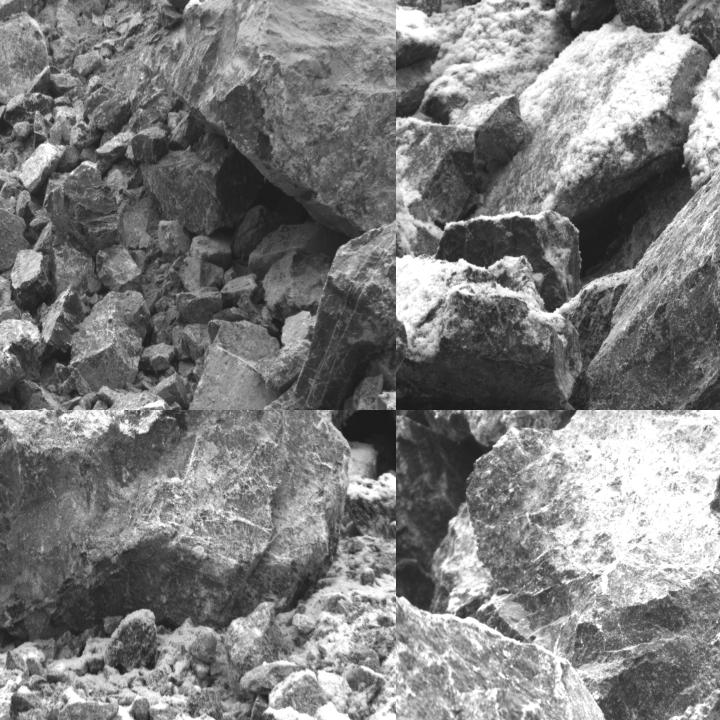stone: (429, 410, 719, 719), (0, 410, 352, 652), (162, 0, 395, 243), (582, 0, 719, 409), (458, 32, 712, 230), (396, 531, 639, 719), (396, 225, 584, 409), (293, 213, 395, 409), (47, 289, 150, 396), (140, 147, 262, 234), (185, 321, 285, 409), (44, 162, 126, 258), (0, 14, 51, 103), (0, 319, 46, 405), (11, 220, 53, 307), (17, 142, 66, 195), (0, 189, 30, 270), (94, 244, 142, 291), (4, 94, 55, 126), (87, 95, 129, 132), (176, 288, 222, 320), (132, 127, 169, 164), (0, 255, 13, 326), (82, 0, 125, 14)
